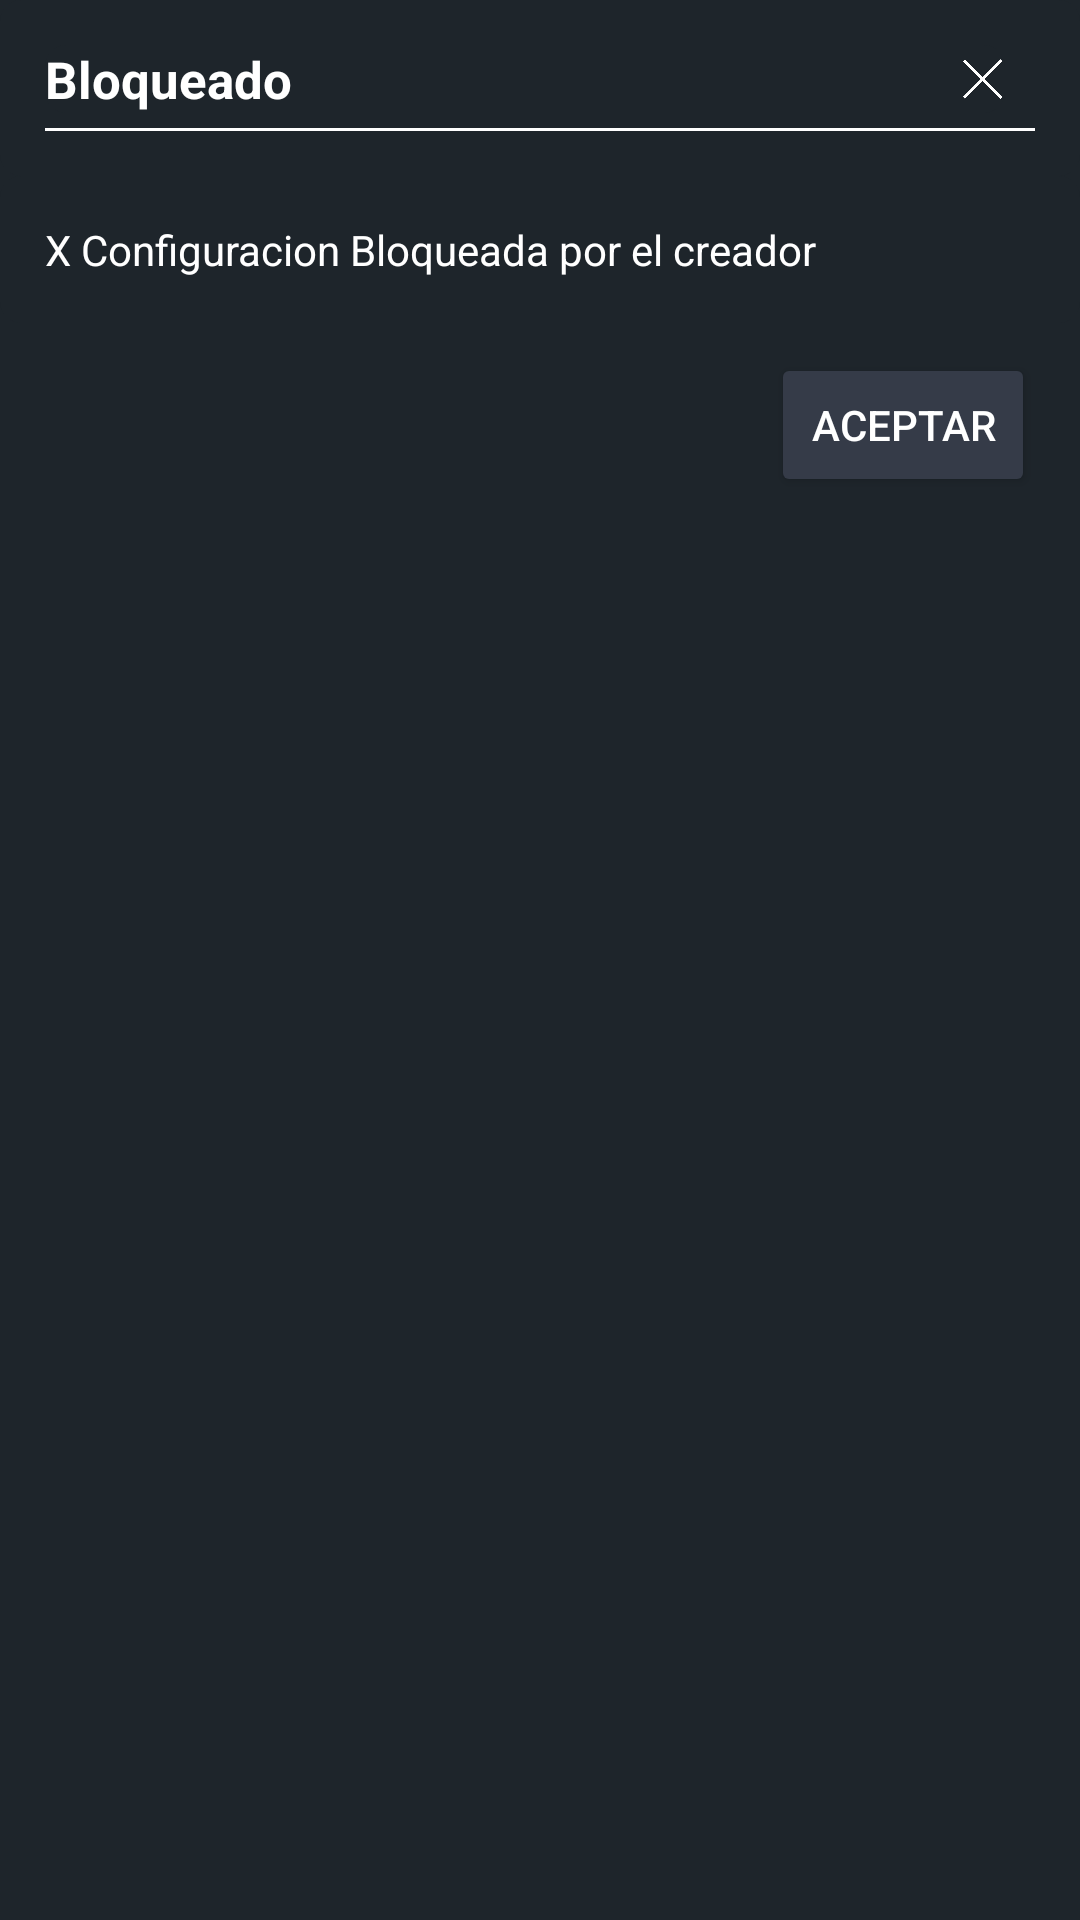

Screen size 1080px x 1920px. Icon name, then its box in pixels as rect(x1, y1, x2, y2):
salir: rect(963, 59, 1002, 99)
